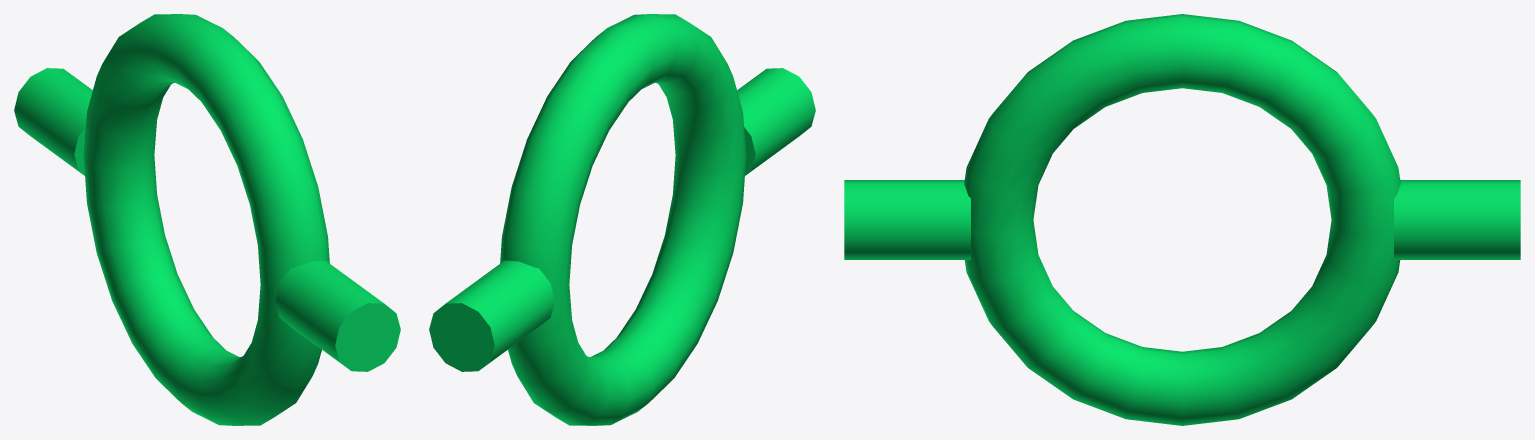
File: SM_MapModel_FacilityRing1.FBX
The picture shows the model from 3 angles, left to right: view 1: azimuth 30°, elevation 25°; view 2: azimuth 150°, elevation 25°; view 3: azimuth 270°, elevation 25°; orthographic projection. The views are drawn at different scales.
Parts seen in each view (by area): view 1: Torus002; view 2: Torus002; view 3: Torus002.
Boxes of the visible parts, x1,y1,x2,y2 form: Torus002: (14, 14, 400, 425); Torus002: (429, 14, 815, 425); Torus002: (844, 14, 1520, 425).
Size of the model in its own units: 2003 by 11198 by 16931.
